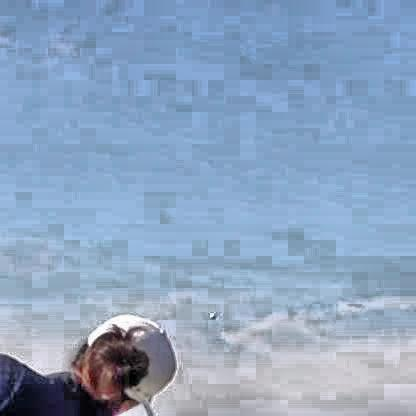golfball: (206, 310, 213, 317)
